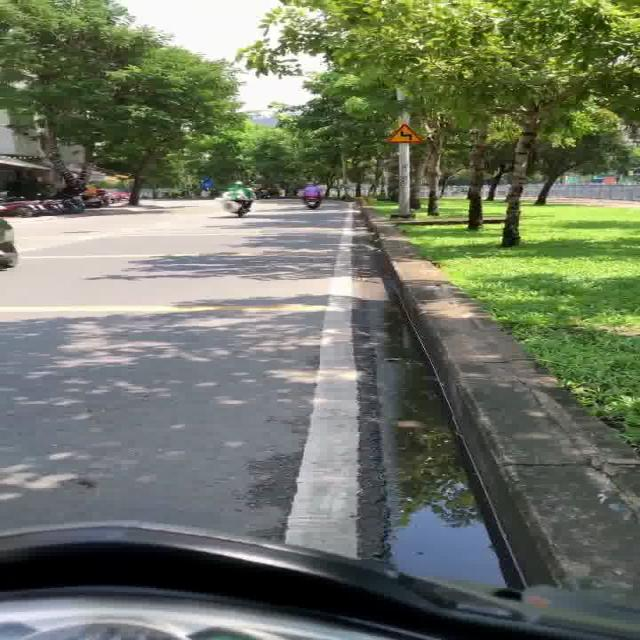Bien bao nhieu cho ngoat nguy hiem lien tiep: (380, 121, 425, 145)
